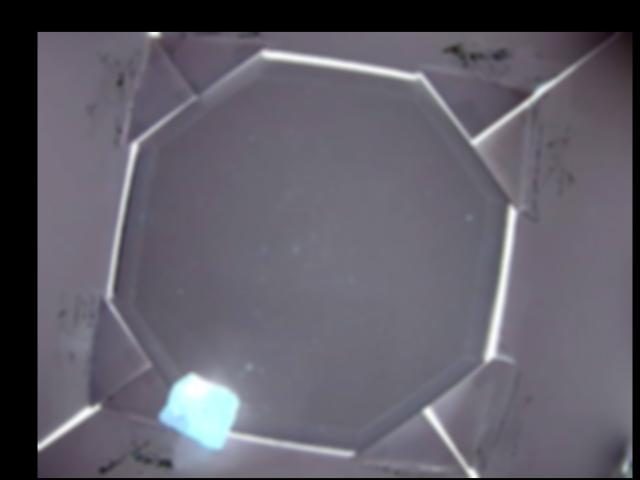Brisk: (159, 371, 239, 448)
